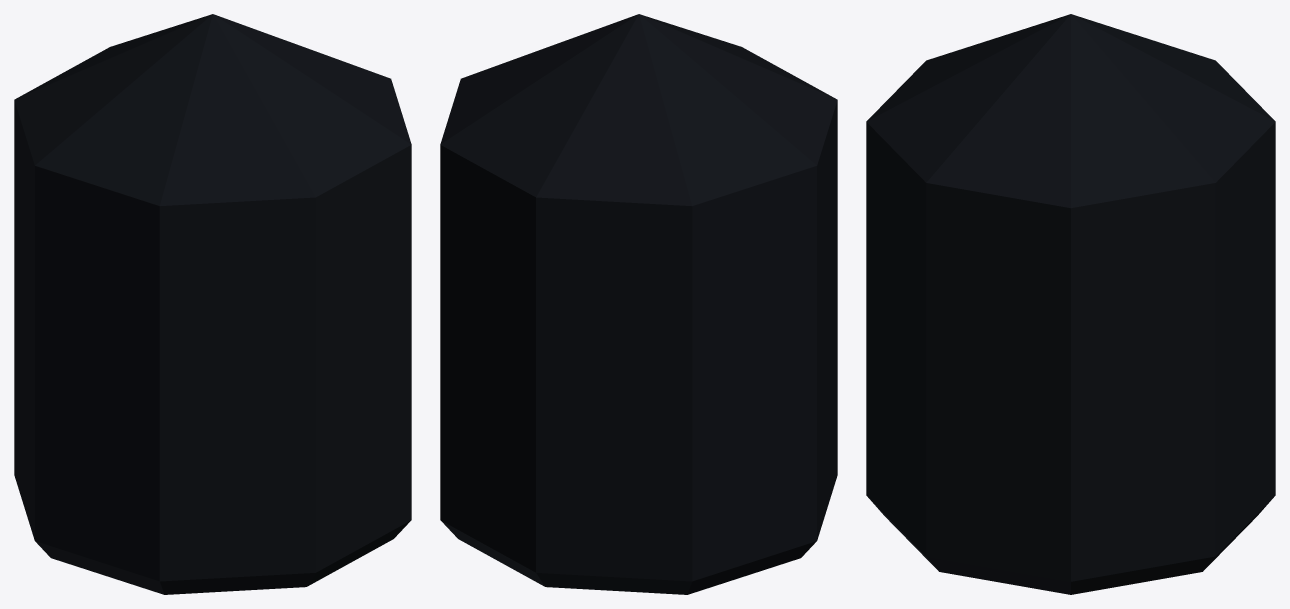
Rendered from water_tank.fbx.
3 views of the same model, side by side, from view 1: azimuth 30°, elevation 25°; view 2: azimuth 150°, elevation 25°; view 3: azimuth 270°, elevation 25° (orthographic).
Visible parts, largest first — view 1: water_tank; view 2: water_tank; view 3: water_tank.
Boxes of the visible parts, left/top/right/bottom form: water_tank: left=14, top=14, right=411, bottom=594; water_tank: left=440, top=14, right=837, bottom=594; water_tank: left=866, top=14, right=1275, bottom=594.
Size of the model in its own units: 226 by 306 by 226.
Materials: 1 (1 with a texture image).
